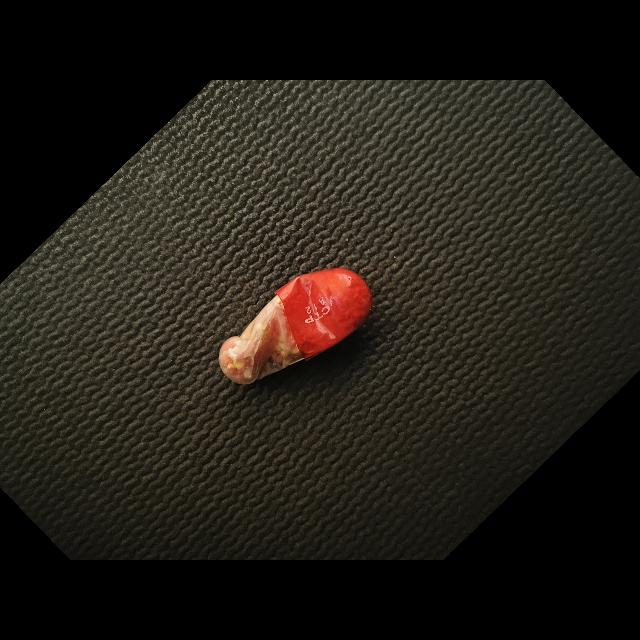Defective Capsule: (219, 268, 372, 384)
